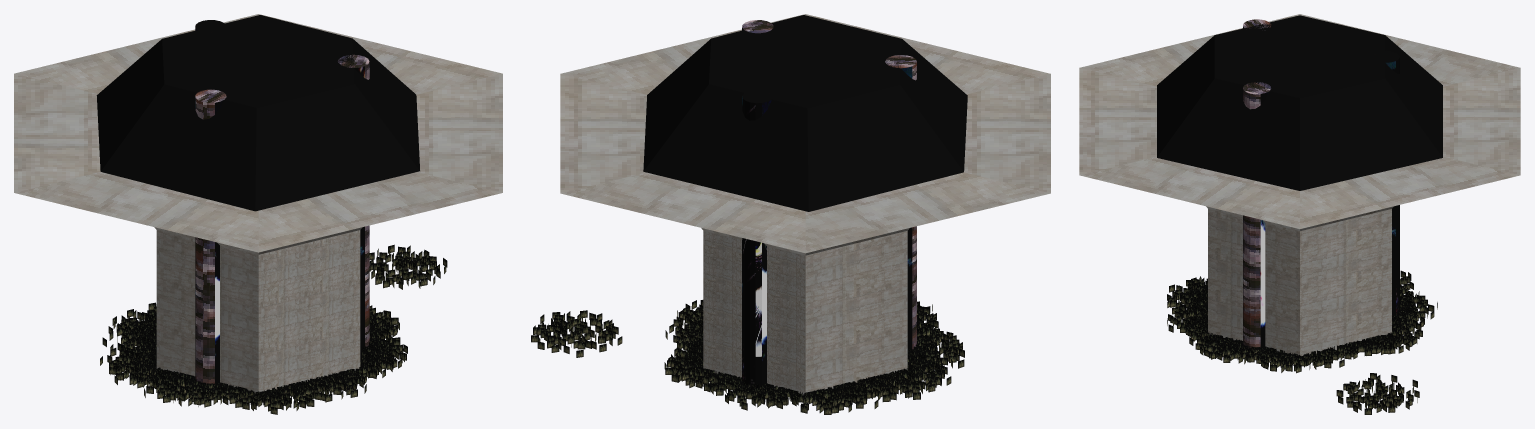
File: Room3.gltf
3 renders of one model, left to right at view 1: azimuth 30°, elevation 25°; view 2: azimuth 150°, elevation 25°; view 3: azimuth 270°, elevation 25°, orthographic. The views are drawn at different scales.
Visible parts, largest first — view 1: Cube, Platform, Plants; view 2: Cube, Platform, Plants; view 3: Cube, Platform, Plants.
Part boxes in pixels (bbox=[...]): Cube: bbox=[14, 14, 502, 393]; Platform: bbox=[96, 15, 419, 211]; Plants: bbox=[100, 244, 447, 414]; Cube: bbox=[560, 14, 1050, 395]; Platform: bbox=[643, 15, 967, 211]; Plants: bbox=[531, 300, 964, 414]; Cube: bbox=[1079, 14, 1520, 355]; Platform: bbox=[1157, 15, 1442, 190]; Plants: bbox=[1167, 270, 1437, 414].
Size of the model in its own units: 71.2 by 40 by 61.66.
Materials: 8 (8 with a texture image).
